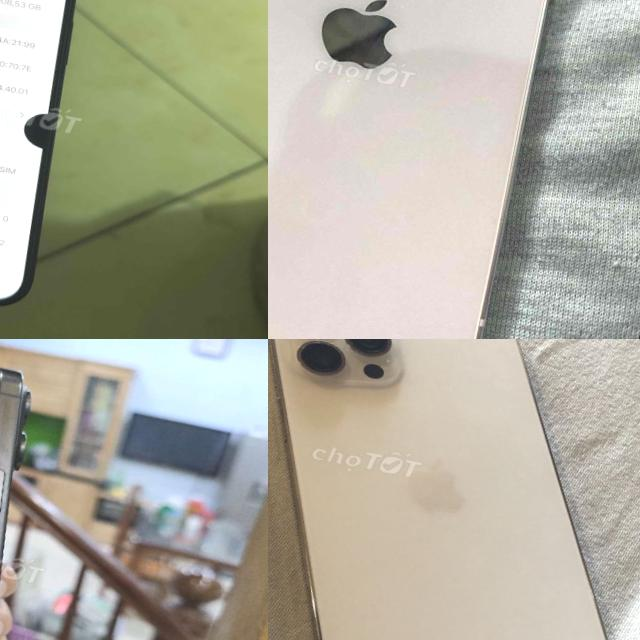scratch: (268, 0, 499, 114), (0, 401, 22, 469)
screen_defect: (14, 94, 106, 172)
